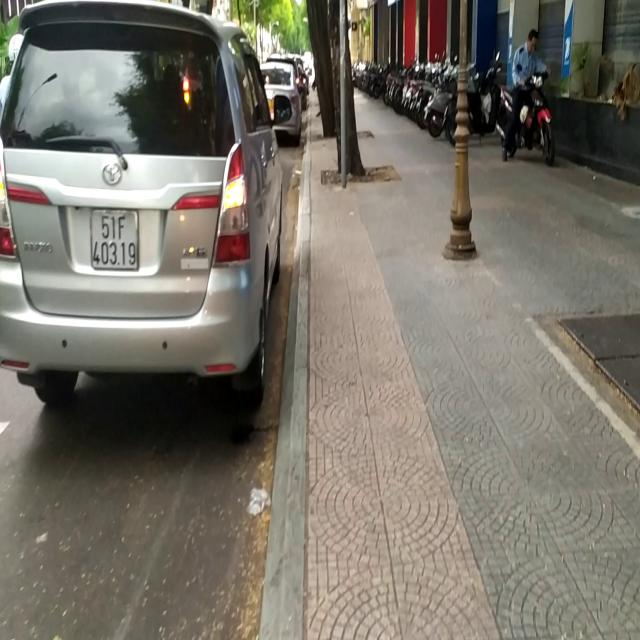bien_trang: (86, 209, 140, 273)
